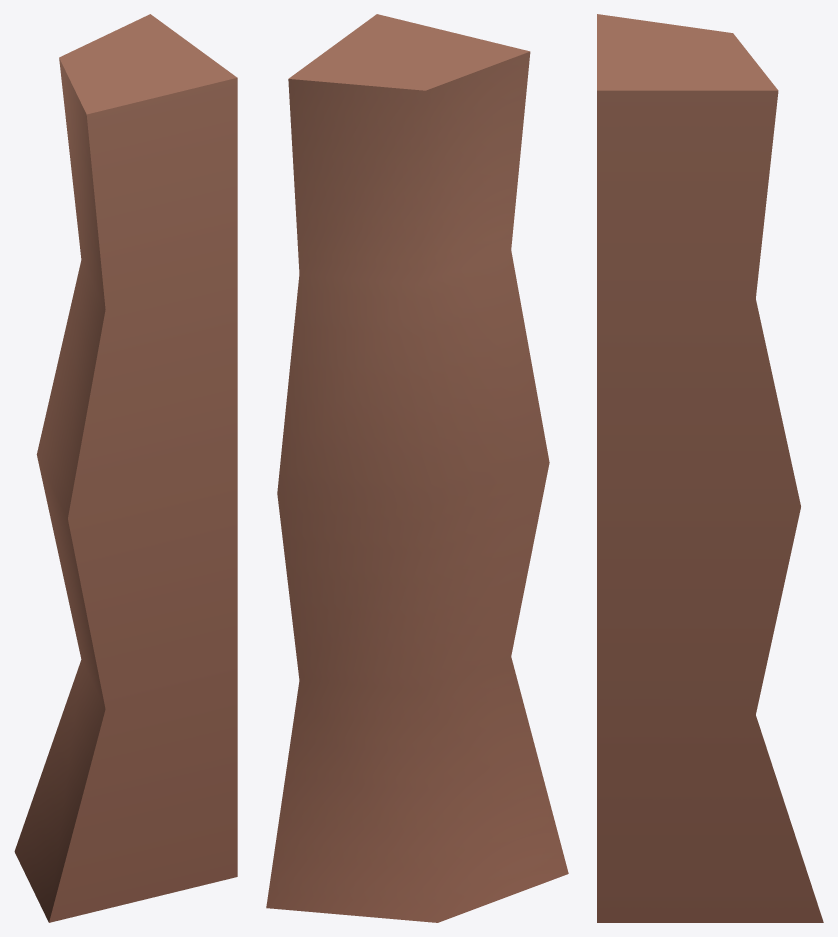
File: template-wall-corner.glb
The picture shows the model from 3 angles, left to right: view 1: azimuth 30°, elevation 25°; view 2: azimuth 150°, elevation 25°; view 3: azimuth 270°, elevation 25°; orthographic projection. The views are drawn at different scales.
Parts seen in each view (by area): view 1: template-wall-corner; view 2: template-wall-corner; view 3: template-wall-corner.
Part boxes in pixels (<box>): template-wall-corner: <box>14,14,237,922</box>; template-wall-corner: <box>266,14,568,922</box>; template-wall-corner: <box>597,14,823,922</box>.
Bounding box in the file's own units: 1 × 4.05 × 1.
1 material, 1 textured.
